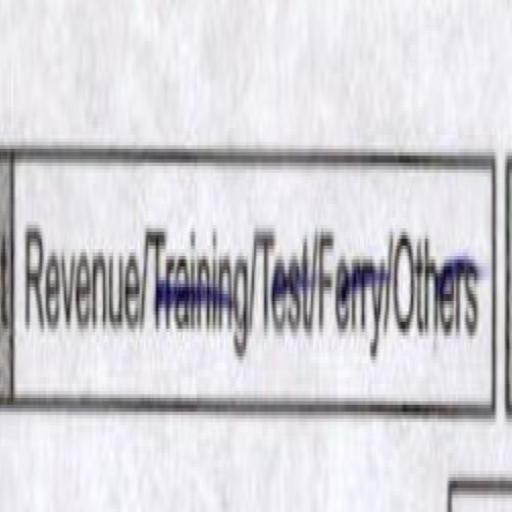check: (16, 170, 143, 418)
